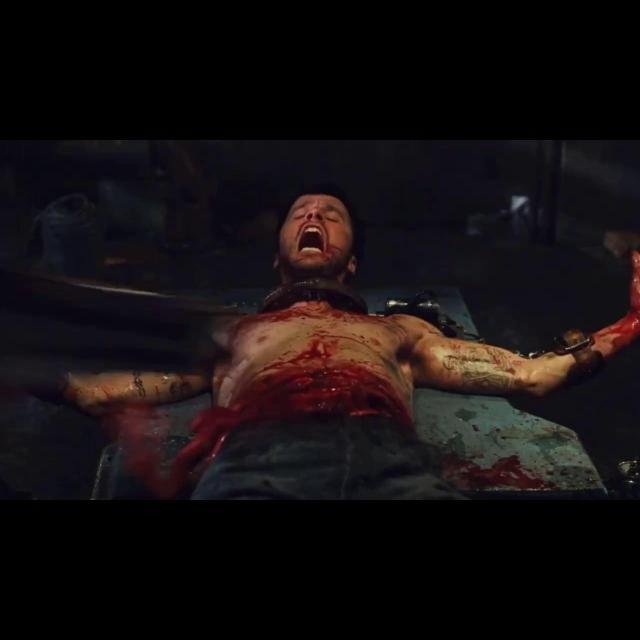blood: (115, 356, 413, 500), (216, 302, 442, 389), (439, 406, 605, 499), (594, 250, 640, 358)
